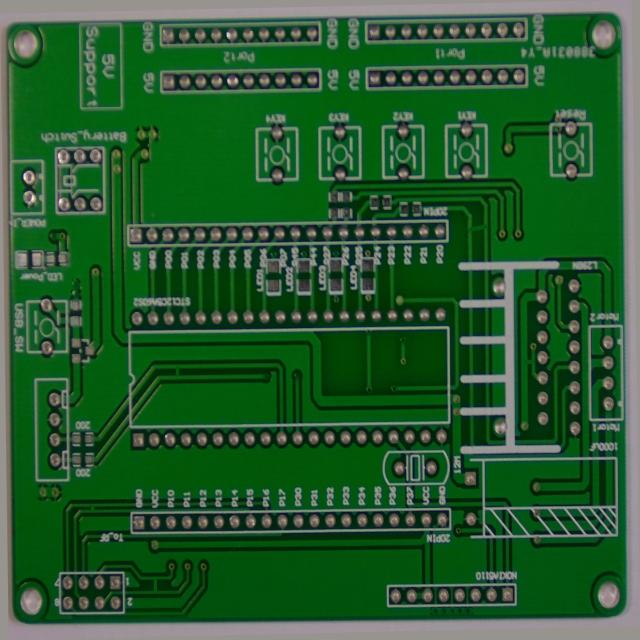short: (466, 216, 496, 244), (139, 573, 158, 599), (164, 358, 184, 381), (520, 356, 539, 379), (78, 499, 94, 515)
